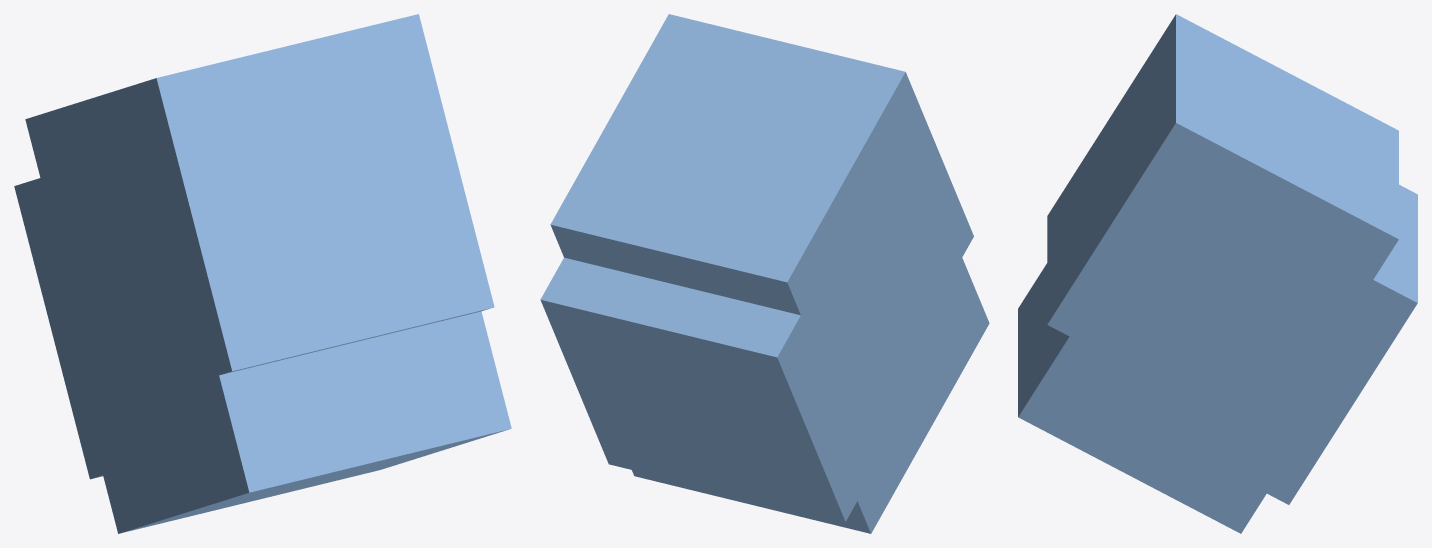
File: raw_glb.glb
3 views of the same model, side by side, from view 1: azimuth 30°, elevation 25°; view 2: azimuth 150°, elevation 25°; view 3: azimuth 270°, elevation 25° (orthographic). The views are drawn at different scales.
Parts seen in each view (by area): view 1: SM_test_blender_tank_barrel_LOD0, SM_test_blender_tank_hull_LOD0, SM_test_blender_tank_turret_LOD0; view 2: SM_test_blender_tank_barrel_LOD0, SM_test_blender_tank_turret_LOD0, SM_test_blender_tank_hull_LOD0; view 3: SM_test_blender_tank_barrel_LOD0, SM_test_blender_tank_hull_LOD0, SM_test_blender_tank_turret_LOD0.
Boxes of the visible parts, box(x1,y1,x2,y2) form: SM_test_blender_tank_barrel_LOD0: box(25, 14, 494, 407); SM_test_blender_tank_hull_LOD0: box(42, 199, 511, 533); SM_test_blender_tank_turret_LOD0: box(14, 145, 218, 479); SM_test_blender_tank_barrel_LOD0: box(550, 14, 973, 446); SM_test_blender_tank_turret_LOD0: box(540, 147, 916, 521); SM_test_blender_tank_hull_LOD0: box(632, 258, 989, 533); SM_test_blender_tank_barrel_LOD0: box(1047, 14, 1398, 424); SM_test_blender_tank_hull_LOD0: box(1018, 215, 1369, 533); SM_test_blender_tank_turret_LOD0: box(1071, 184, 1417, 504).
Size of the model in its own units: 1 by 1.76 by 1.55.
